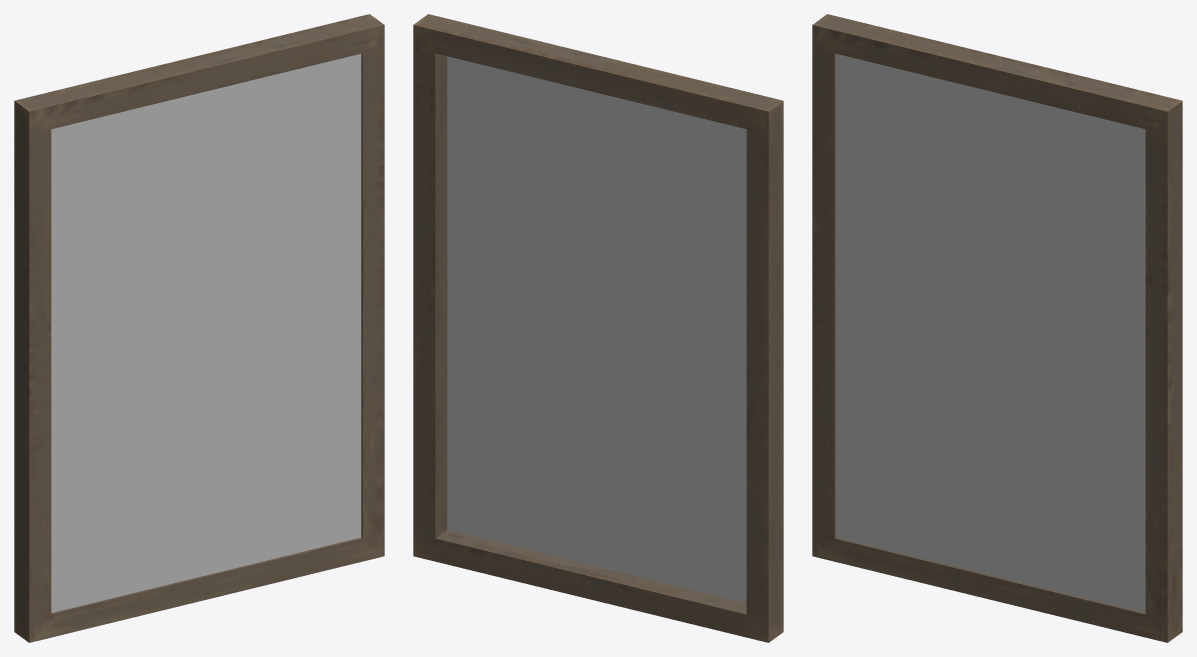
File: SM_Mirror.fbx
The picture shows the model from 3 angles, left to right: view 1: azimuth 30°, elevation 25°; view 2: azimuth 150°, elevation 25°; view 3: azimuth 330°, elevation 25°; orthographic projection.
Parts seen in each view (by area): view 1: SM_Mirror_LOD0; view 2: SM_Mirror_LOD0; view 3: SM_Mirror_LOD0.
Part boxes in pixels (x1,y1,x2,y2): SM_Mirror_LOD0: [14, 14, 384, 642]; SM_Mirror_LOD0: [413, 14, 783, 642]; SM_Mirror_LOD0: [812, 14, 1182, 642].
Bounding box in the file's own units: 70 × 5.11 × 100.
